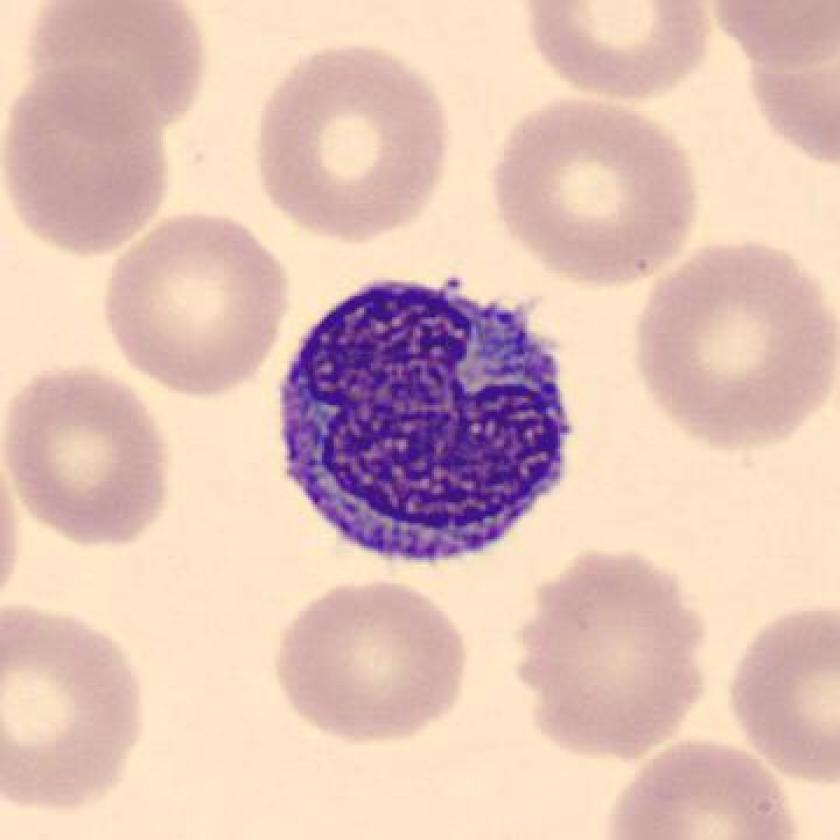monocyte: (253, 262, 594, 589)
